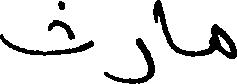X: (0, 0, 91, 60), (105, 4, 153, 83), (155, 0, 175, 56), (213, 19, 236, 63)
